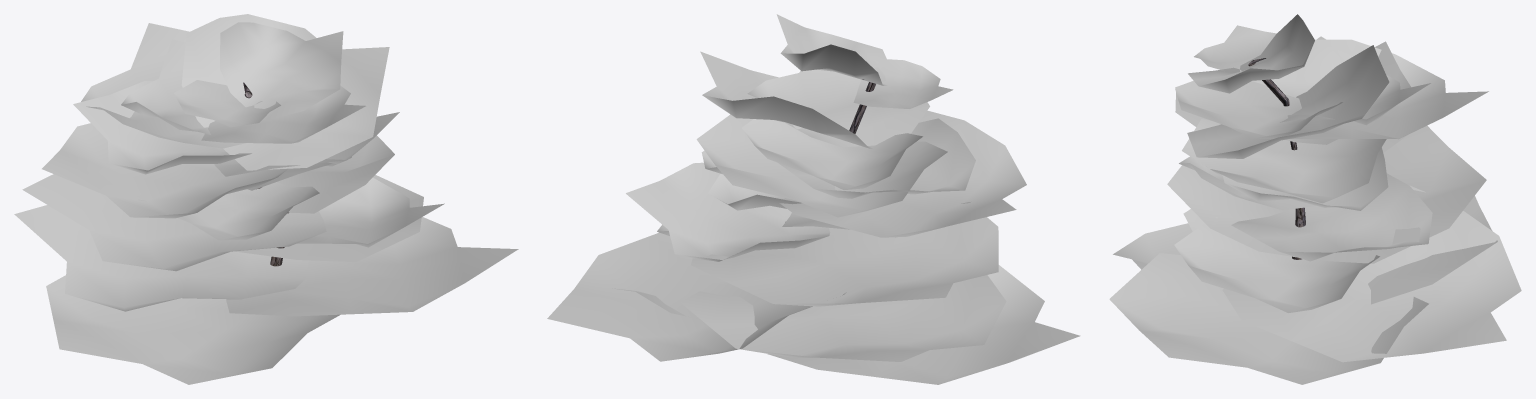
The model's file is TreeBushGreyyy .fbx.
The picture shows the model from 3 angles, left to right: view 1: azimuth 30°, elevation 25°; view 2: azimuth 150°, elevation 25°; view 3: azimuth 270°, elevation 25°; orthographic projection. The views are drawn at different scales.
Parts seen in each view (by area): view 1: pCylinder2; view 2: pCylinder2; view 3: pCylinder2.
Part boxes in pixels (left/top/right/bottom): pCylinder2: left=14, top=14, right=518, bottom=384; pCylinder2: left=547, top=14, right=1080, bottom=384; pCylinder2: left=1109, top=14, right=1521, bottom=384.
Bounding box in the file's own units: 1.14 × 0.7794 × 0.9559.
